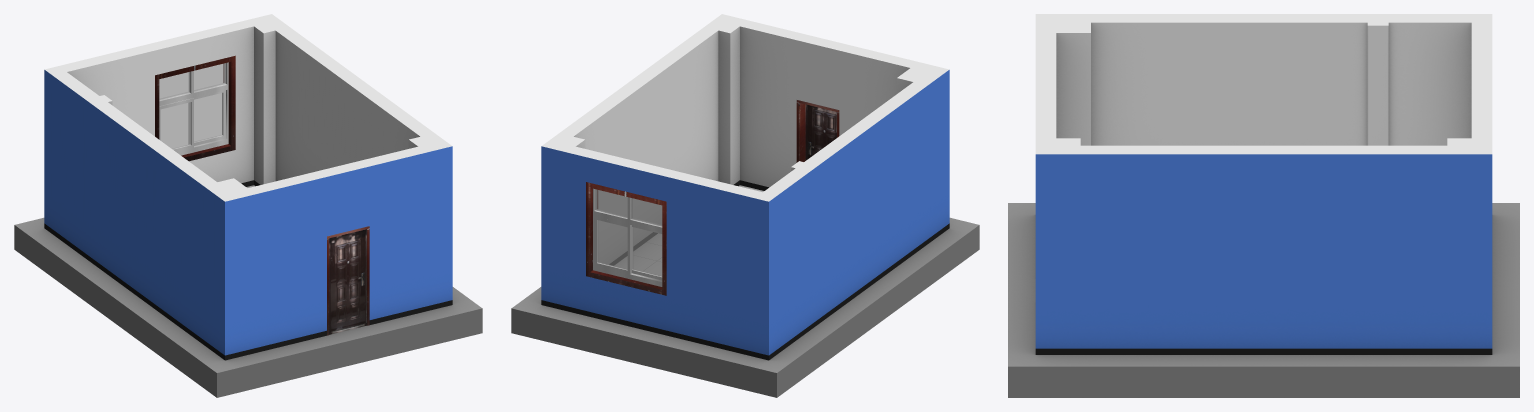
The model's file is room_jf_xl_5f.glb.
3 views of the same model, side by side, from view 1: azimuth 30°, elevation 25°; view 2: azimuth 150°, elevation 25°; view 3: azimuth 270°, elevation 25° (orthographic). The views are drawn at different scales.
Visible parts, largest first — view 1: jf_xl_5f_qiang, jf_xl_5f_di, jf_xl_5f_chuang, jf_xl_5f_men; view 2: jf_xl_5f_qiang, jf_xl_5f_di, jf_xl_5f_chuang, jf_xl_5f_men; view 3: jf_xl_5f_qiang, jf_xl_5f_di.
Part boxes in pixels (x1,y1,x2,y2): jf_xl_5f_qiang: [44, 14, 452, 360]; jf_xl_5f_di: [14, 185, 482, 397]; jf_xl_5f_chuang: [155, 55, 235, 161]; jf_xl_5f_men: [327, 226, 369, 335]; jf_xl_5f_qiang: [541, 14, 949, 360]; jf_xl_5f_di: [511, 185, 979, 397]; jf_xl_5f_chuang: [586, 182, 666, 295]; jf_xl_5f_men: [796, 100, 839, 162]; jf_xl_5f_qiang: [1035, 14, 1492, 354]; jf_xl_5f_di: [1008, 203, 1519, 397].
Size of what is drawn, in the model's own units: 5.6 by 3.7 by 7.4.
Materials: 5 (4 with a texture image).
